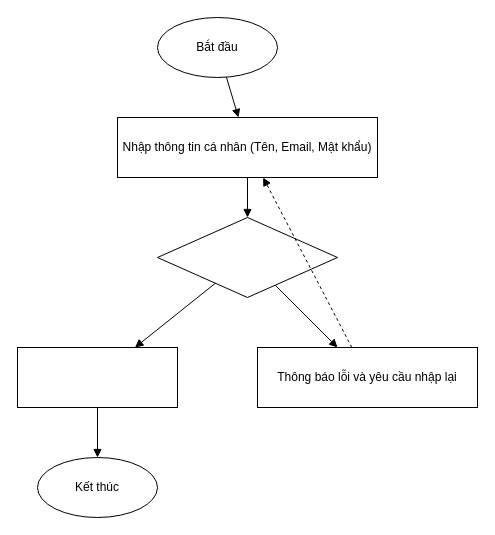
Image size: 495x535. Some labels were removed from this diagram. Here are the shapes that lost their labels. From the top down, the box of each, then its label:
(156, 216, 338, 298): Thông tin hợp lệ?
(16, 346, 178, 408): Đăng ký thành công
